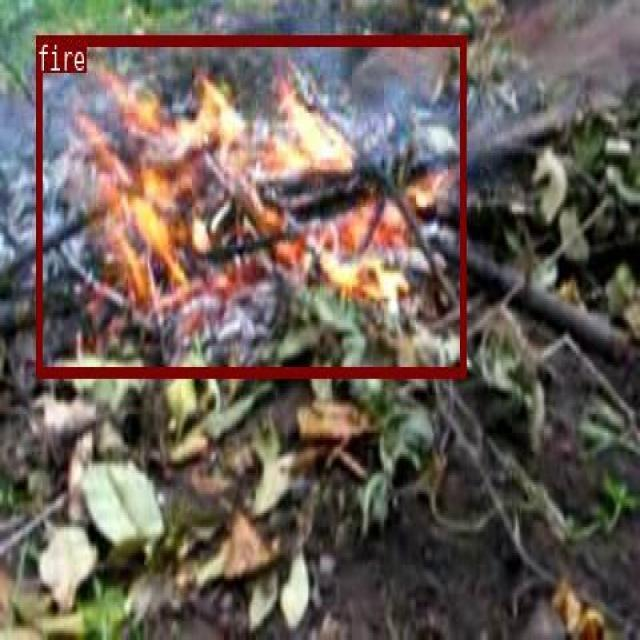fire: (36, 35, 465, 375)
